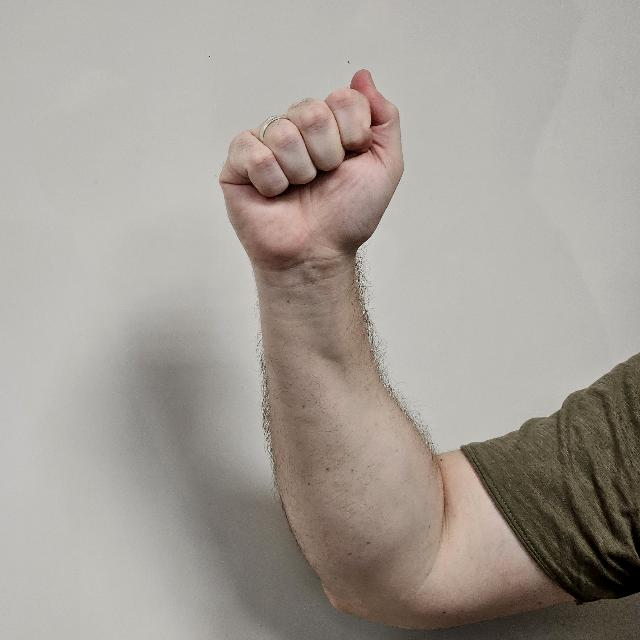Quadro: (221, 68, 407, 270)
